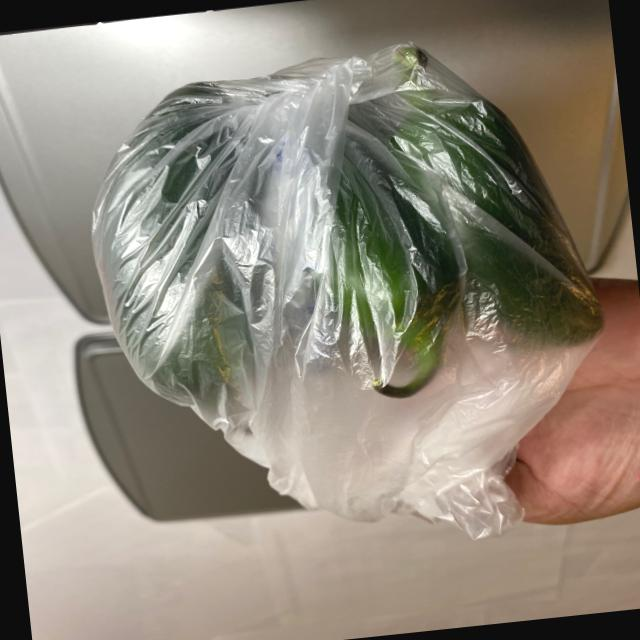chilli: (76, 27, 624, 448)
